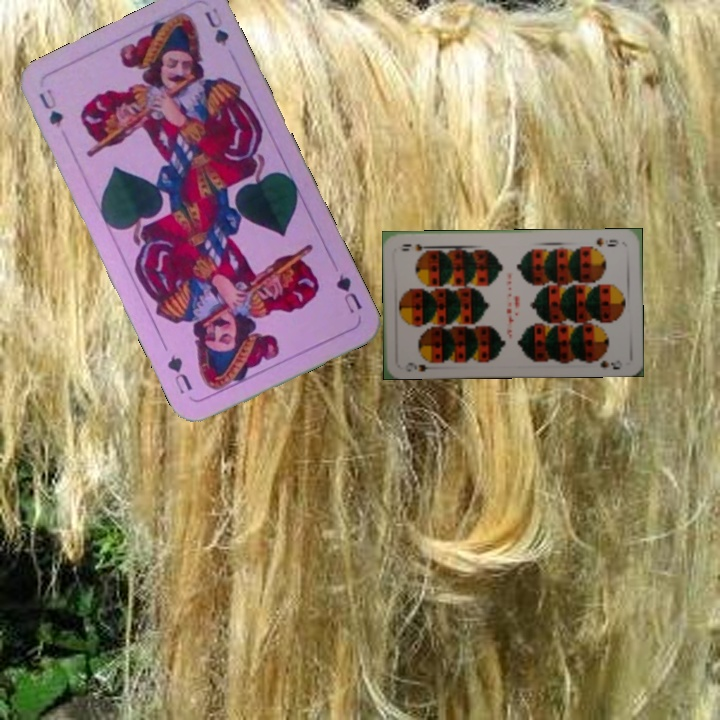GU: (331, 268, 365, 316), (34, 84, 66, 130)
S9: (403, 355, 439, 374), (592, 234, 621, 249)
